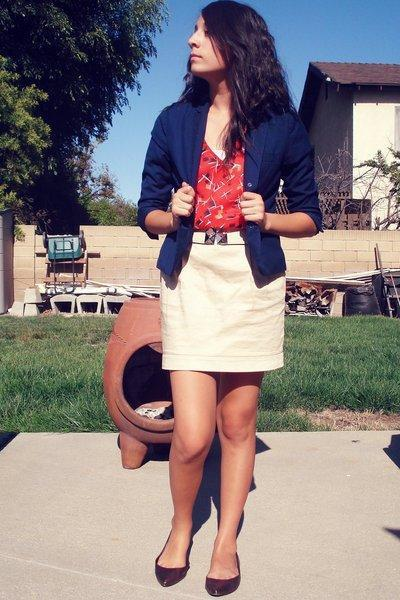jacket: (133, 87, 335, 289)
pants: (175, 540, 192, 580)
shirt: (191, 137, 251, 245)
shoe: (155, 552, 240, 596)
skirt: (160, 231, 305, 371)
